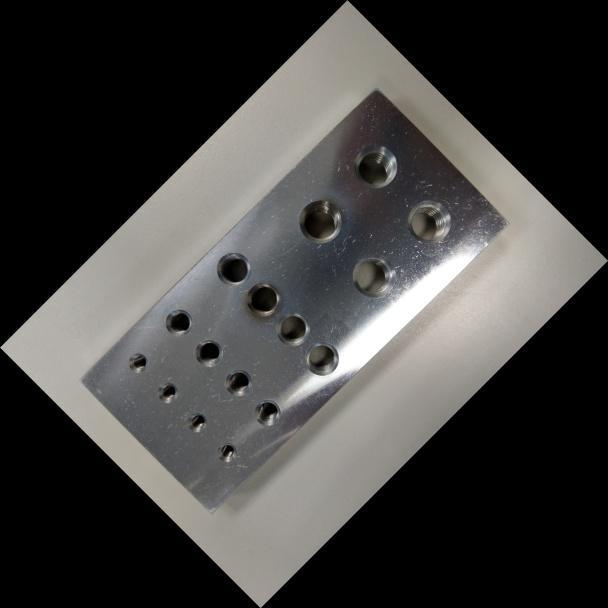hole: (288, 190, 351, 253), (397, 190, 460, 253), (342, 245, 404, 307), (344, 135, 406, 197), (238, 274, 287, 324), (208, 244, 258, 293), (267, 304, 316, 353), (297, 334, 345, 383), (188, 333, 228, 373), (218, 362, 257, 402), (159, 302, 198, 342), (248, 394, 285, 431), (152, 377, 182, 407), (212, 437, 241, 467), (182, 408, 211, 436), (123, 348, 151, 376)
